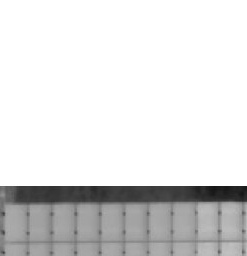solar: (1, 201, 29, 243), (26, 201, 54, 243), (50, 201, 78, 243), (74, 201, 102, 243), (98, 201, 126, 243), (121, 201, 149, 243), (146, 201, 174, 243), (171, 201, 199, 243), (194, 201, 222, 243), (219, 201, 247, 243)
